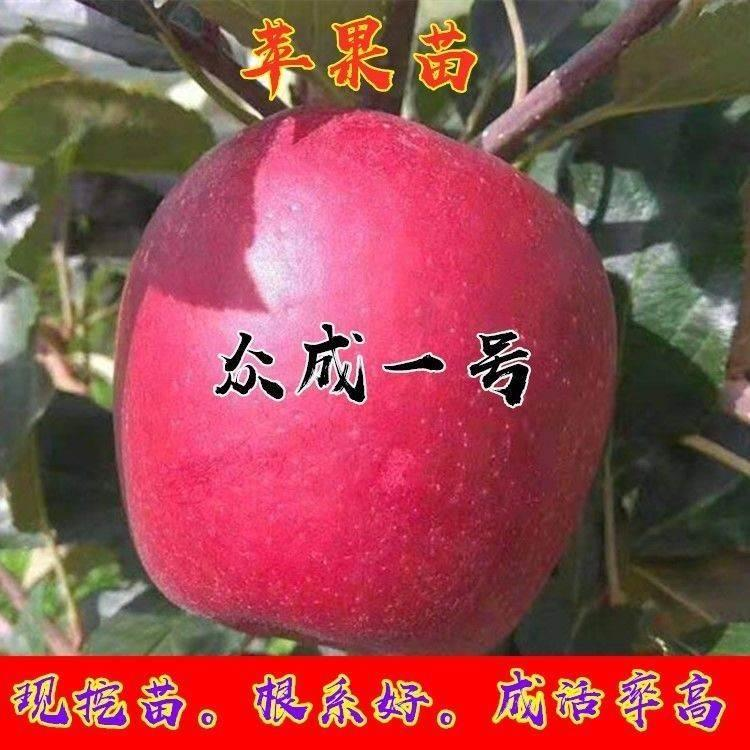apple: (108, 100, 620, 642)
